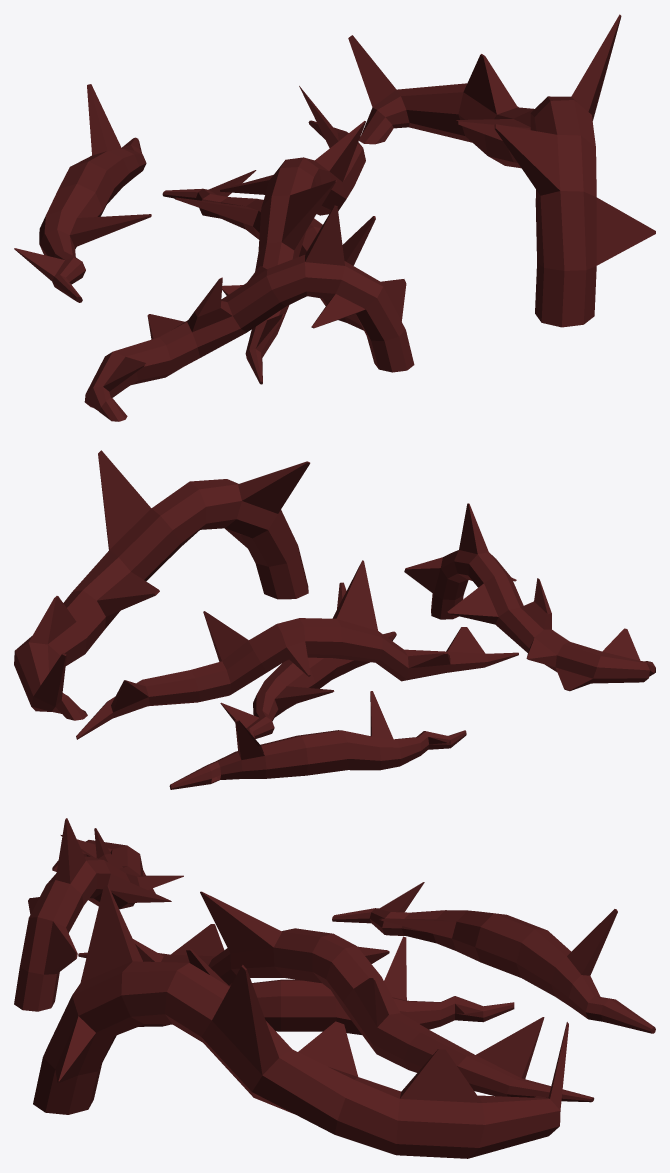
File: Vine Weed.fbx
3 renders of one model, top to bottom at view 1: azimuth 30°, elevation 25°; view 2: azimuth 150°, elevation 25°; view 3: azimuth 270°, elevation 25°, orthographic. The views are drawn at different scales.
Parts seen in each view (by area): view 1: Cylinder; view 2: Cylinder; view 3: Cylinder.
Part boxes in pixels (bbox=[...]): Cylinder: bbox=[14, 14, 655, 421]; Cylinder: bbox=[14, 450, 655, 789]; Cylinder: bbox=[14, 818, 655, 1158].
Bounding box in the file's own units: 9.15 × 2.98 × 8.09.
